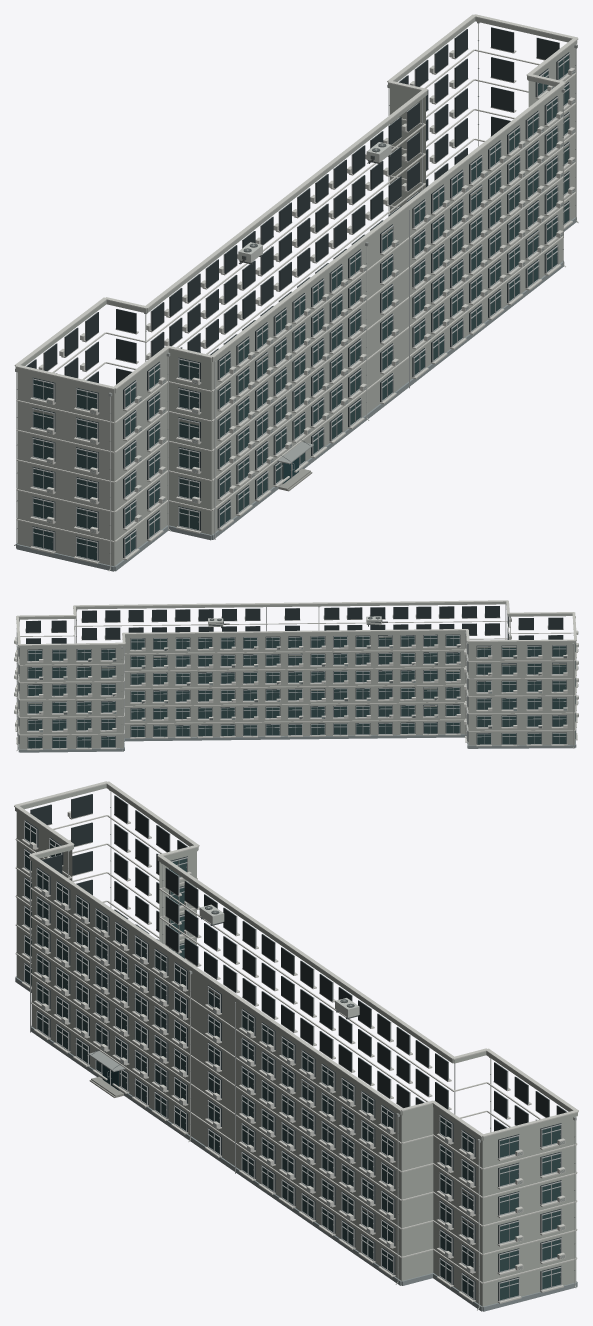
File: osm_way_225255198.glb
3 views of the same model, one above another, from view 1: azimuth 30°, elevation 25°; view 2: azimuth 150°, elevation 25°; view 3: azimuth 270°, elevation 25° (orthographic). The views are drawn at different scales.
Visible parts, largest first — view 1: Windows and facade details | 40, Architecture | 40, Roof services | 40, EXTERIOR::osm_way_225255198::rainwater and roof service deta, EXTERIOR::osm_way_225255198::inferred entry doors canopy and; view 2: Windows and facade details | 40, Architecture | 40, Roof services | 40, EXTERIOR::osm_way_225255198::rainwater and roof service deta, EXTERIOR::osm_way_225255198::native pane seals and hardware; view 3: Windows and facade details | 40, Architecture | 40, Roof services | 40, EXTERIOR::osm_way_225255198::rainwater and roof service deta, EXTERIOR::osm_way_225255198::inferred entry doors canopy and.
Part boxes in pixels (bbox=[...]): Windows and facade details | 40: bbox=[26, 27, 574, 563]; Architecture | 40: bbox=[15, 17, 577, 571]; Roof services | 40: bbox=[14, 14, 578, 389]; EXTERIOR::osm_way_225255198::rainwater and roof service deta: bbox=[14, 22, 578, 571]; EXTERIOR::osm_way_225255198::inferred entry doors canopy and: bbox=[277, 439, 313, 491]; Windows and facade details | 40: bbox=[14, 604, 578, 750]; Architecture | 40: bbox=[17, 602, 576, 752]; Roof services | 40: bbox=[16, 600, 576, 645]; EXTERIOR::osm_way_225255198::rainwater and roof service deta: bbox=[16, 606, 575, 751]; EXTERIOR::osm_way_225255198::native pane seals and hardware: bbox=[28, 636, 566, 742]; Windows and facade details | 40: bbox=[21, 794, 567, 1303]; Architecture | 40: bbox=[15, 784, 577, 1311]; Roof services | 40: bbox=[14, 781, 578, 1137]; EXTERIOR::osm_way_225255198::rainwater and roof service deta: bbox=[67, 790, 576, 1310]; EXTERIOR::osm_way_225255198::inferred entry doors canopy and: bbox=[88, 1048, 125, 1097].
Size of the model in its own units: 85.43 by 20.58 by 57.42.
